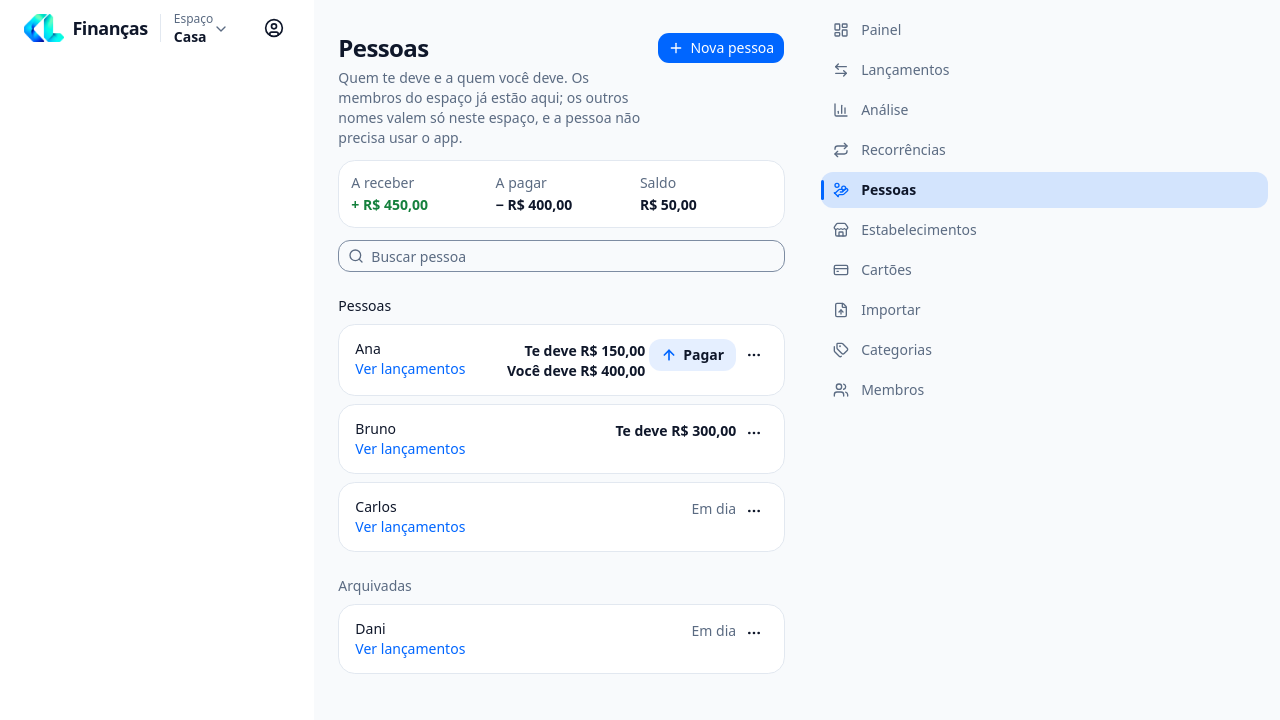
Scenario: PeoplePage › opens a person's transactions of every month, and settles a pending one there
This screenshot has width=1280, height=720.
Click the button with aria-label "Ver lançamentos com Ana".
click(410, 369)  # box [355,359,465,379]
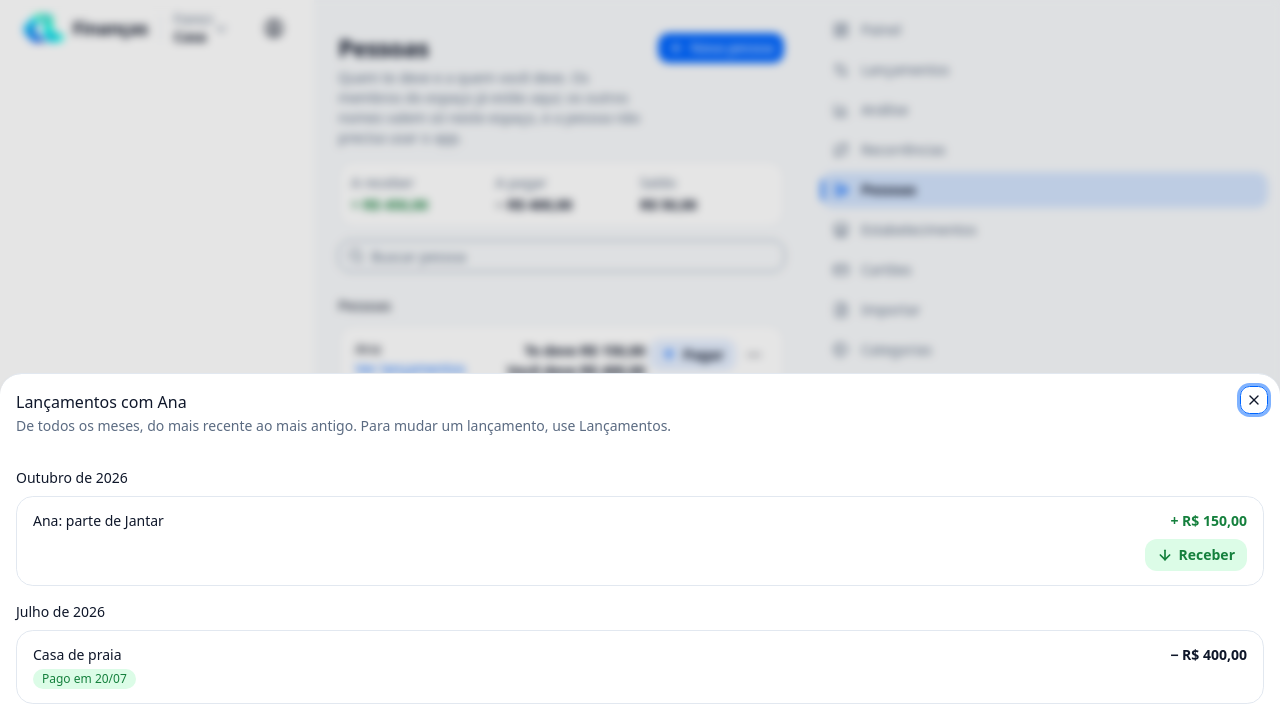
Now the list item "Ana: parte de Jantar + R$ 150,00 Receber" is shown, box [16,496,1264,586]
Now the list item "Casa de praia Pago em 20/07 − R$ 400,00" is shown, box [16,630,1264,704]
Click the button with aria-label "Receber: Ana: parte de Jantar".
click(1196, 555)  # box [1144,539,1247,571]
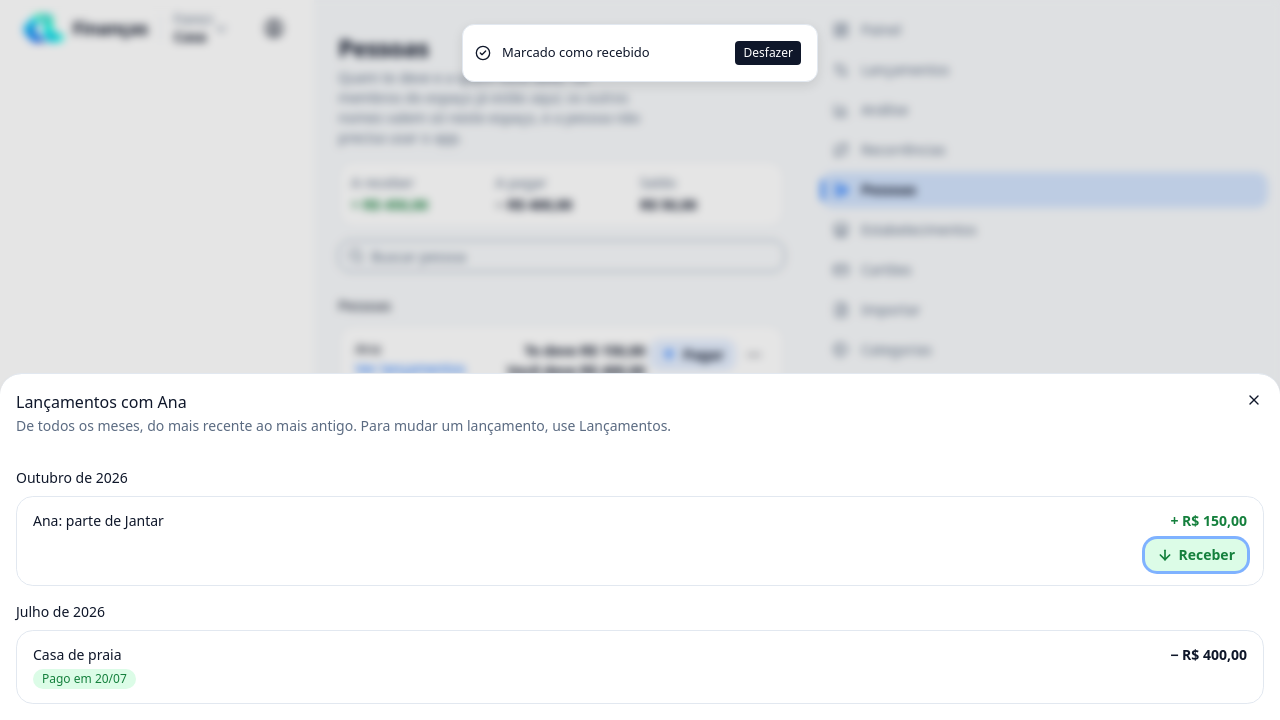
Now the text "Marcado como recebido" is shown, box [502,43,650,63]
Click the button "Desfazer".
click(768, 53)  # box [736,41,801,65]
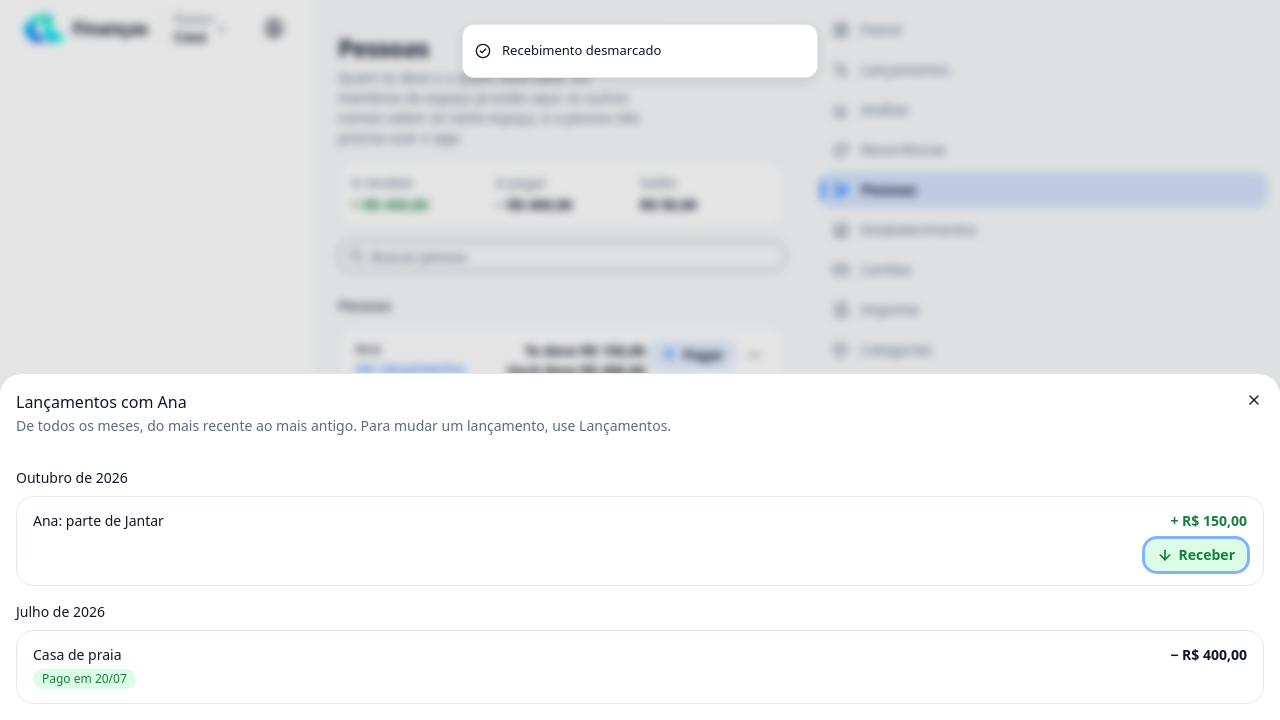
Now the text "Recebimento desmarcado" is shown, box [502,41,661,60]
